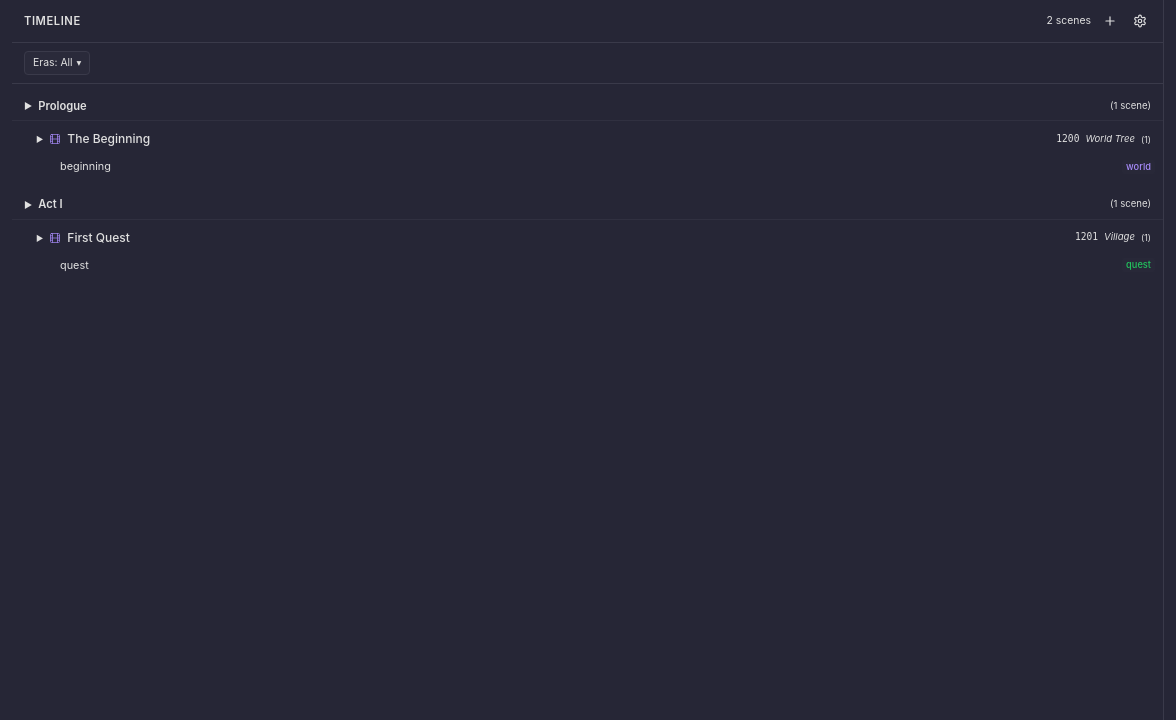
Scenario: TimelineView › collapses and expands era sections
Check: the text "The Beginning" is shown, box [67,131,150,146]
Click the button "▶ Prologue (1 scene)".
click(62, 106)  # box [12,92,1163,121]
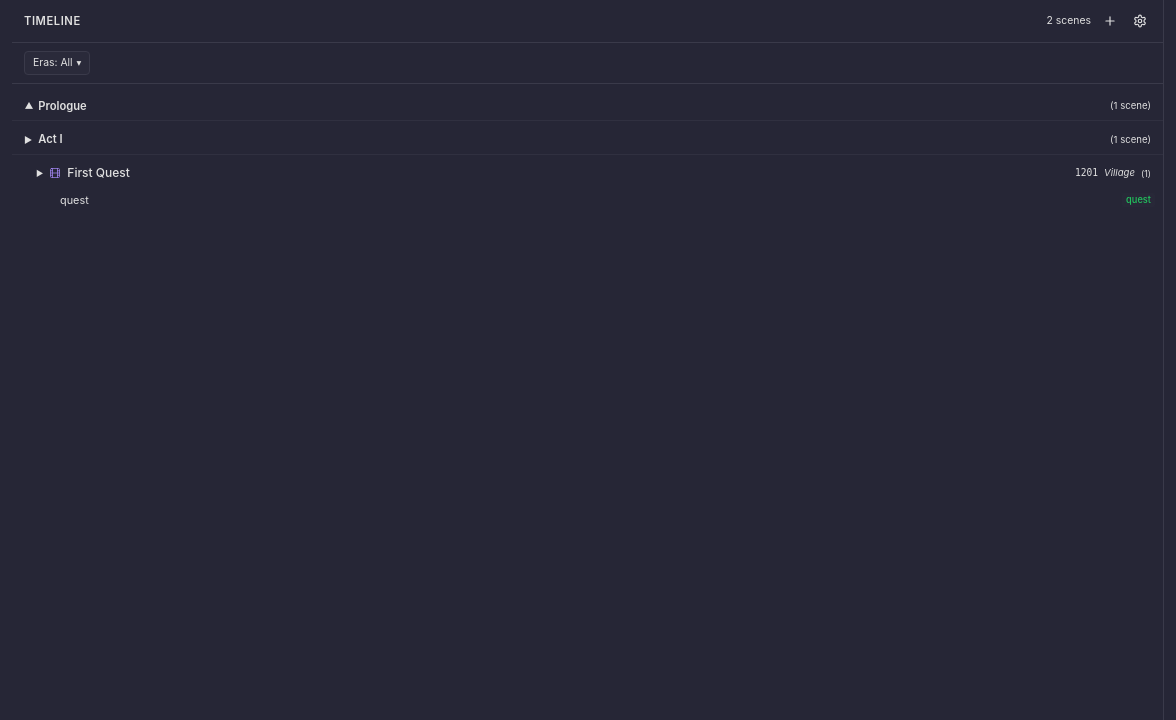
Check: the text "The Beginning" is gone
